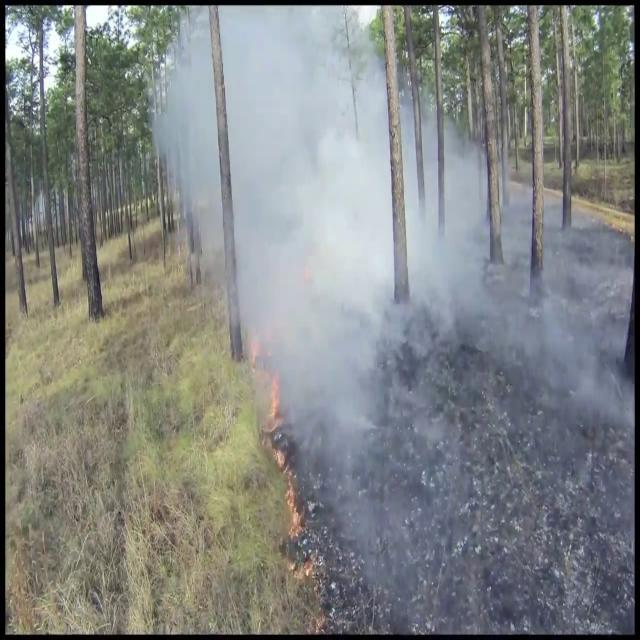Smoke: (157, 0, 640, 463)
